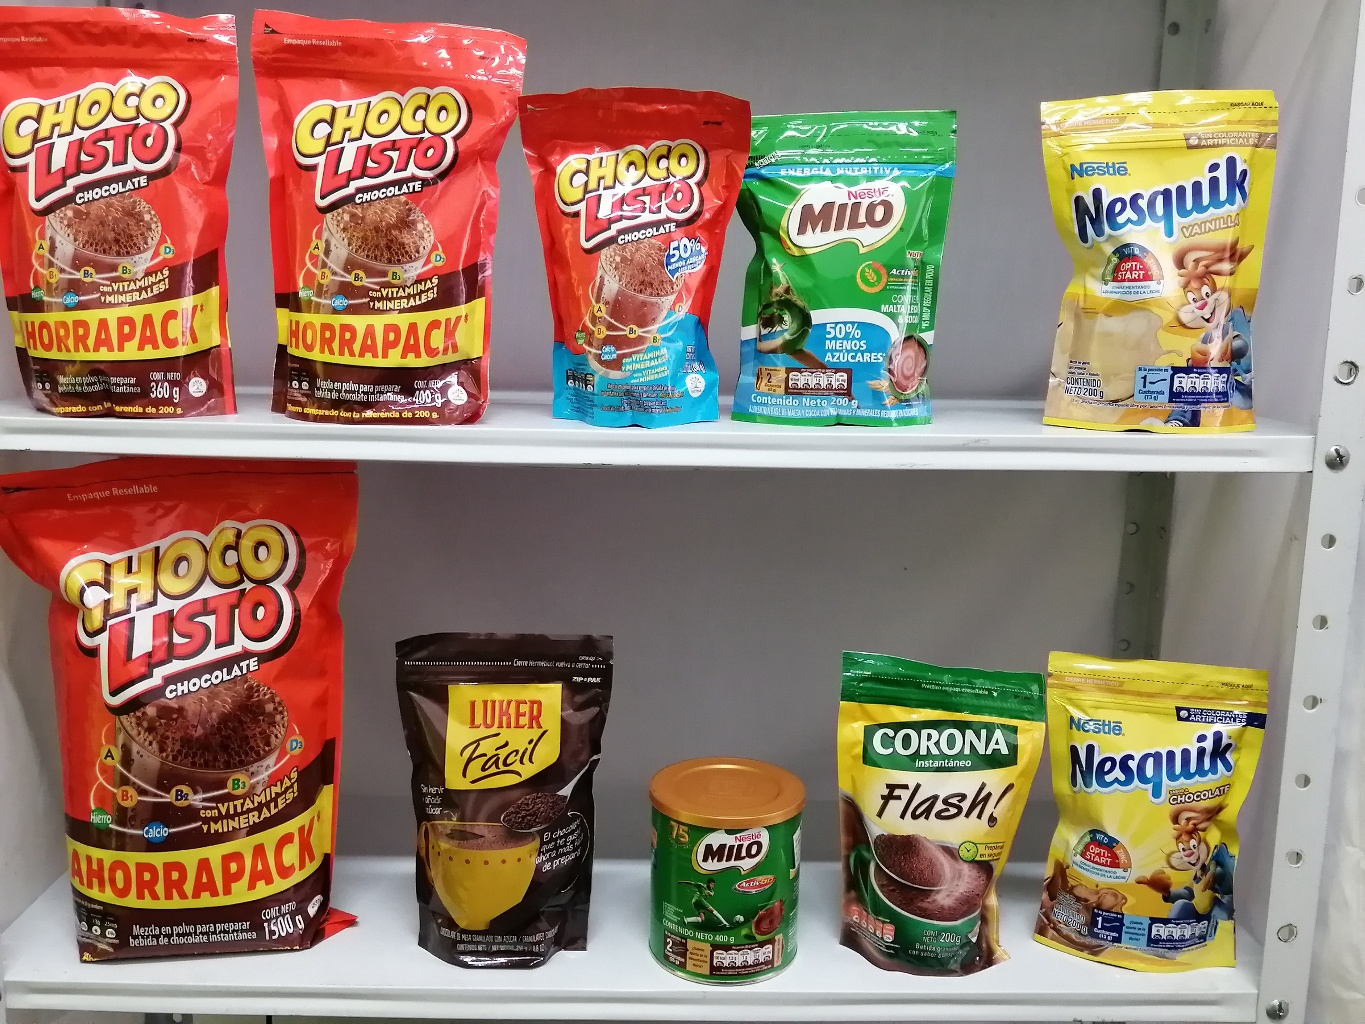COL0170103DYP1,500: (10, 447, 383, 971)
COL0170103DYP36000: (4, 1, 256, 431)
COL0170103DYP40000: (238, 1, 529, 437)
COL0170104DYP20000: (506, 79, 754, 440)
COL0170203LAT40000: (638, 744, 821, 990)
COL0170205DYP20000: (721, 90, 963, 437)
COL0170303DYP20000: (1038, 637, 1285, 978)
COL0170306DYP20000: (1028, 79, 1299, 433)
